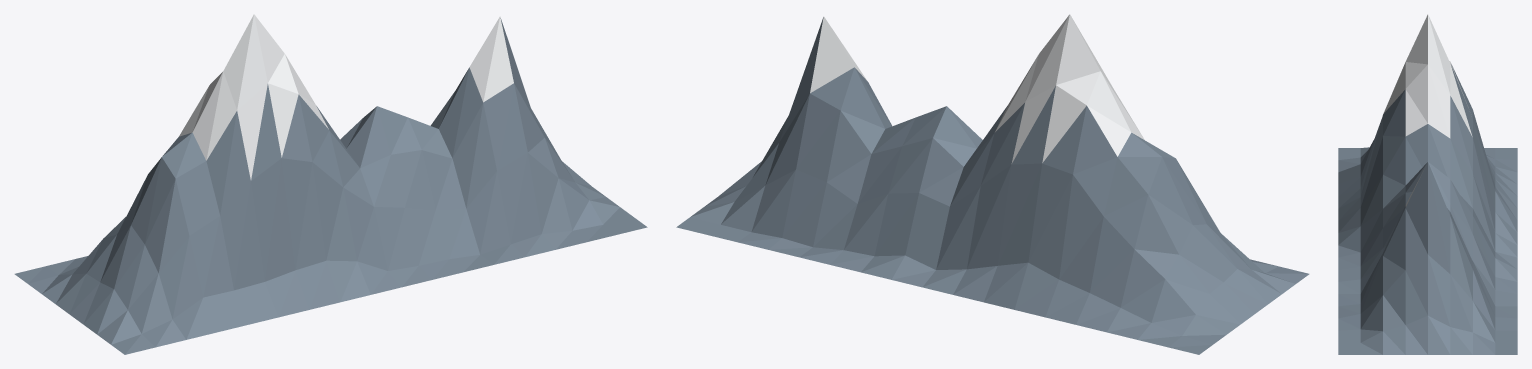
File: nat_mountain_b_v01.glb
3 renders of one model, left to right at view 1: azimuth 30°, elevation 25°; view 2: azimuth 150°, elevation 25°; view 3: azimuth 270°, elevation 25°, orthographic. The views are drawn at different scales.
Parts seen in each view (by area): view 1: mountain; view 2: mountain; view 3: mountain.
Boxes of the visible parts, left/top/right/bottom form: mountain: left=14, top=14, right=647, bottom=354; mountain: left=676, top=14, right=1309, bottom=354; mountain: left=1338, top=14, right=1517, bottom=354.
Bounding box in the file's own units: 60 × 28 × 22.
